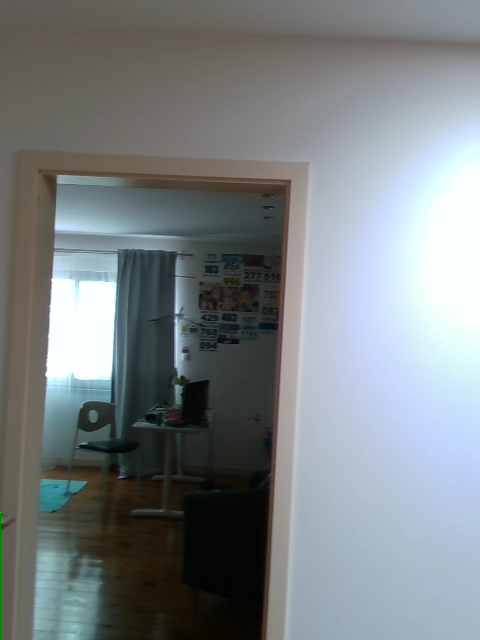open: (0, 149, 311, 639)
